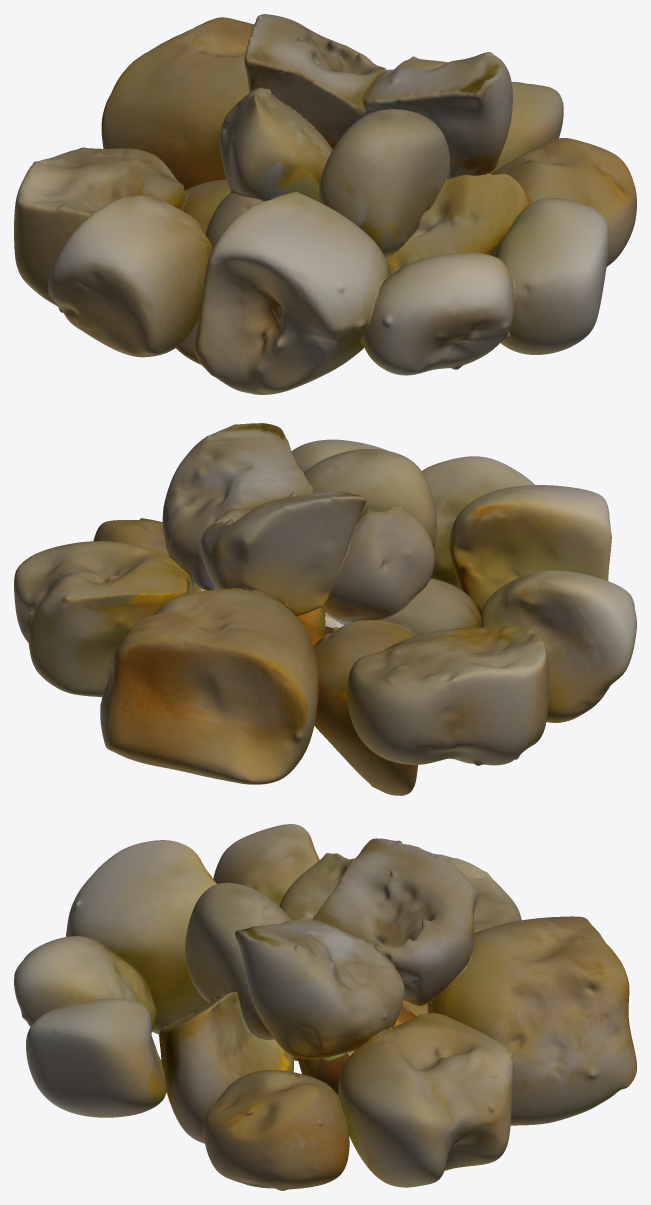
Rendered from Kerupuk_Kulit.fbx.
The picture shows the model from 3 angles, top to bottom: view 1: azimuth 30°, elevation 25°; view 2: azimuth 150°, elevation 25°; view 3: azimuth 270°, elevation 25°; orthographic projection. The views are drawn at different scales.
Parts seen in each view (by area): view 1: tripo_node_0ca97bca; view 2: tripo_node_0ca97bca; view 3: tripo_node_0ca97bca.
Boxes of the visible parts, x1,y1,x2,y2 form: tripo_node_0ca97bca: [14, 14, 636, 394]; tripo_node_0ca97bca: [14, 423, 636, 795]; tripo_node_0ca97bca: [14, 824, 636, 1190].
Bounding box in the file's own units: 141 × 72.96 × 140.
Materials: 1 (1 with a texture image).
